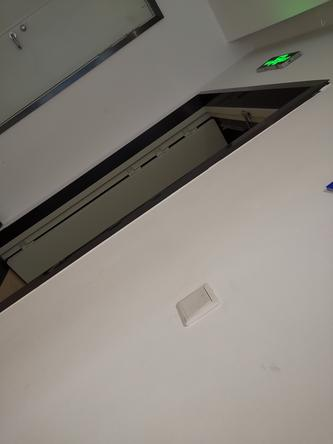switch: (177, 285, 214, 324)
